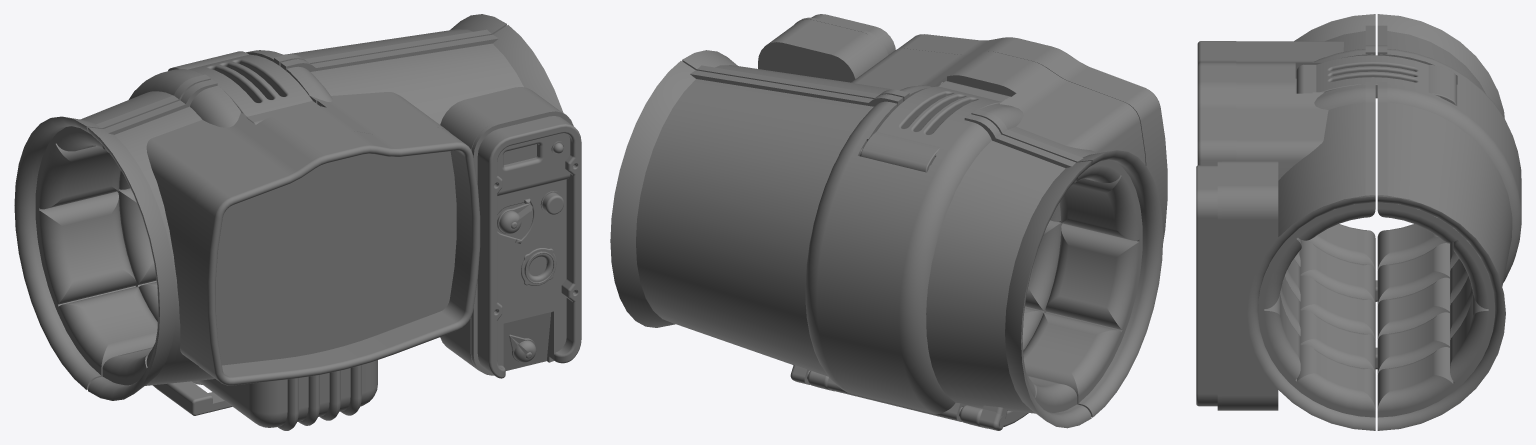
The model's file is Concept Pip Boy.glb.
The picture shows the model from 3 angles, left to right: view 1: azimuth 30°, elevation 25°; view 2: azimuth 150°, elevation 25°; view 3: azimuth 270°, elevation 25°; orthographic projection. The views are drawn at different scales.
Visible parts, largest first — view 1: mesh_id29, mesh_id47, mesh_id70, mesh_id28, mesh_id39, mesh_id36, mesh_id30, mesh_id72, mesh_id46, mesh_id42, mesh_id35, mesh_id38 (+8 smaller); view 2: mesh_id47, mesh_id48, mesh_id70, mesh_id39, mesh_id72, mesh_id42, mesh_id28, mesh_id30, mesh_id36, mesh_id74, mesh_id69, mesh_id52; view 3: mesh_id70, mesh_id47, mesh_id42, mesh_id39, mesh_id48, mesh_id36, mesh_id28, mesh_id72, mesh_id69, mesh_id52.
Part boxes in pixels (bbox=[...]): mesh_id29: bbox=[216, 151, 456, 365]; mesh_id47: bbox=[14, 14, 563, 400]; mesh_id70: bbox=[35, 126, 158, 385]; mesh_id28: bbox=[195, 127, 480, 385]; mesh_id39: bbox=[146, 92, 449, 365]; mesh_id36: bbox=[471, 109, 581, 378]; mesh_id30: bbox=[188, 150, 566, 380]; mesh_id72: bbox=[168, 51, 319, 124]; mesh_id46: bbox=[198, 360, 377, 427]; mesh_id42: bbox=[440, 87, 559, 371]; mesh_id35: bbox=[492, 127, 580, 374]; mesh_id38: bbox=[497, 134, 572, 370]; mesh_id47: bbox=[610, 50, 1163, 428]; mesh_id48: bbox=[805, 101, 991, 421]; mesh_id70: bbox=[1022, 159, 1142, 412]; mesh_id39: bbox=[851, 48, 1145, 164]; mesh_id72: bbox=[859, 81, 1010, 172]; mesh_id42: bbox=[758, 19, 886, 82]; mesh_id28: bbox=[897, 34, 1167, 242]; mesh_id30: bbox=[904, 48, 1166, 238]; mesh_id36: bbox=[796, 14, 895, 56]; mesh_id74: bbox=[807, 370, 1028, 428]; mesh_id69: bbox=[790, 85, 1007, 430]; mesh_id52: bbox=[906, 86, 1023, 129]; mesh_id70: bbox=[1258, 202, 1494, 417]; mesh_id47: bbox=[1247, 14, 1512, 430]; mesh_id42: bbox=[1222, 161, 1278, 410]; mesh_id39: bbox=[1236, 41, 1343, 180]; mesh_id48: bbox=[1377, 49, 1521, 282]; mesh_id36: bbox=[1196, 161, 1221, 410]; mesh_id28: bbox=[1197, 41, 1236, 165]; mesh_id72: bbox=[1296, 55, 1456, 105]; mesh_id69: bbox=[1314, 54, 1375, 109]; mesh_id52: bbox=[1314, 49, 1372, 97].
Size of the model in its own units: 0.512 by 0.3499 by 0.3863.
Materials: 48 (48 with a texture image).
